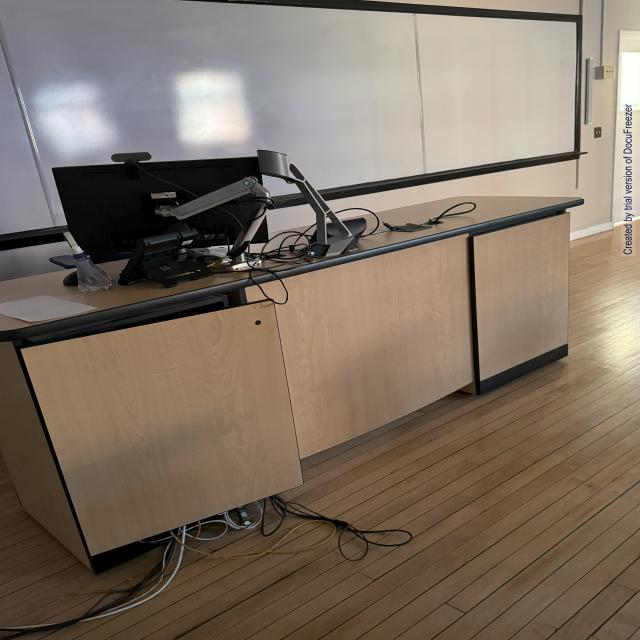Table: (0, 186, 602, 578)
